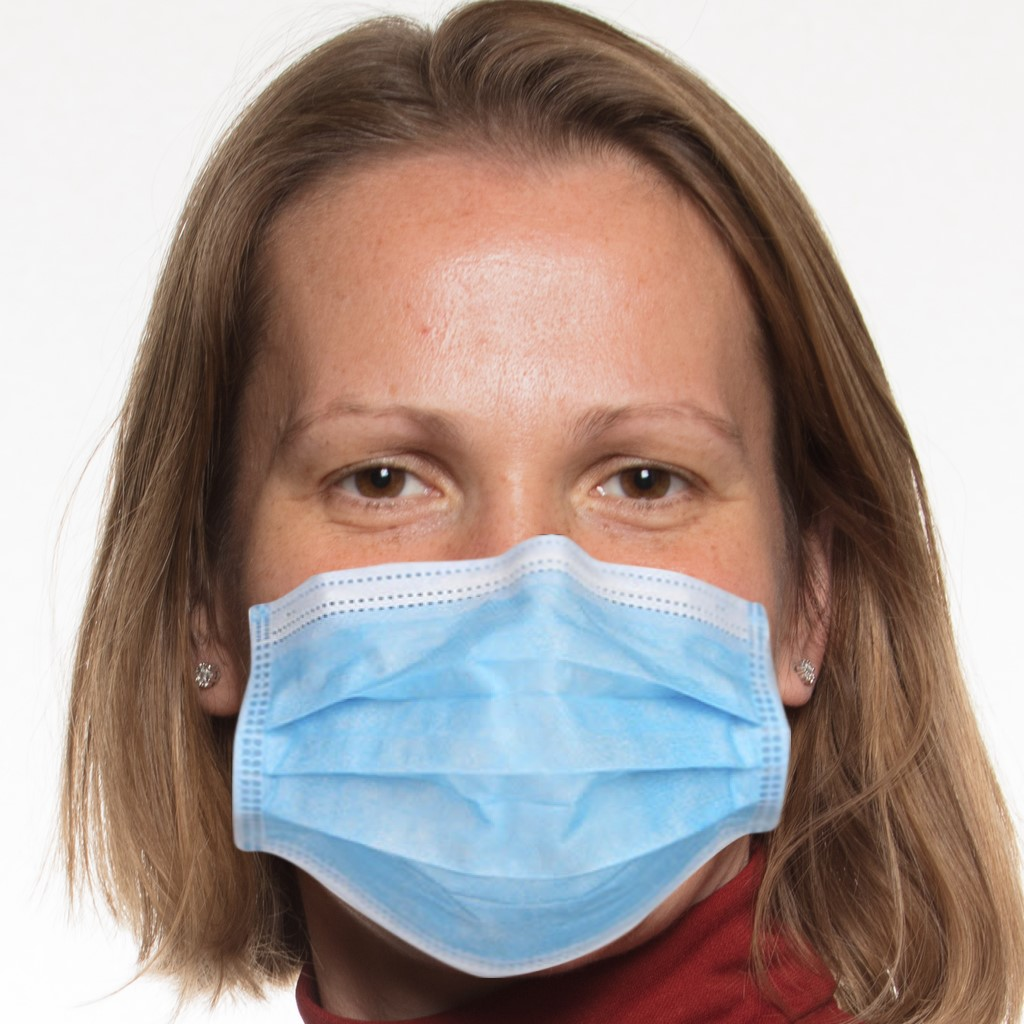con_mascara: (192, 99, 820, 949)
